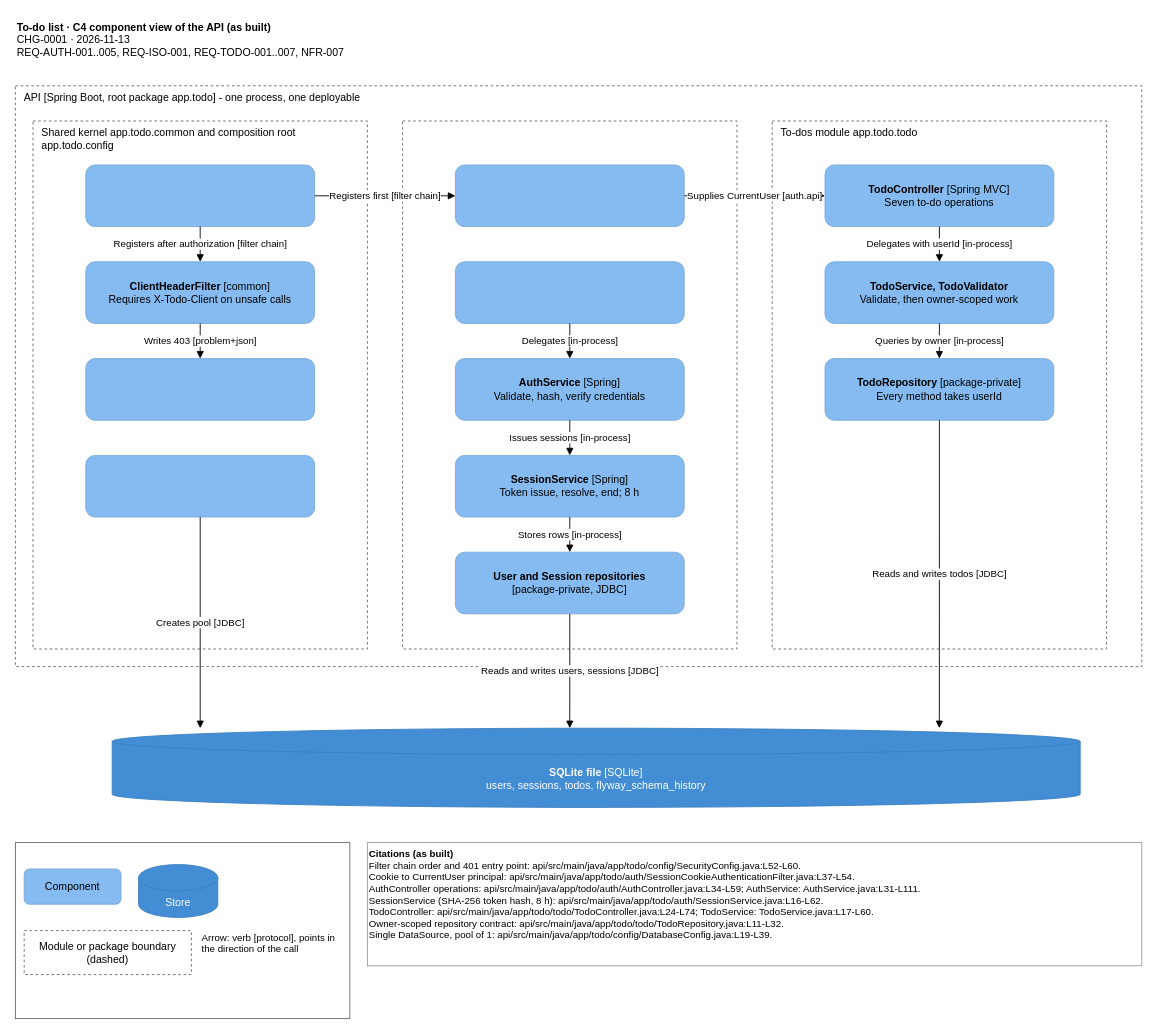
The diagram is 1157 pixels wide and 1034 high, and some of its shapes have lost their labels. The shapes that lost their labels are listed below. From the top down, each one's box as (x1, y1, x2, y2) in pixels, then its label:
(85, 164, 315, 227): SecurityConfig [config] Stateless filter chain, 401 entry point
(455, 164, 684, 227): SessionCookieAuthenticationFilter Cookie to CurrentUser principal
(455, 261, 684, 323): AuthController [Spring MVC] signUp, logIn, logOut, getSession
(85, 358, 315, 420): ProblemWriter [common] Writes every error as problem+json
(402, 120, 737, 649): Identity module app.todo.auth (published: auth.api)
(85, 455, 315, 517): DatabaseConfig [config] The only DataSource, pool of 1
(15, 842, 350, 1019): Legend
